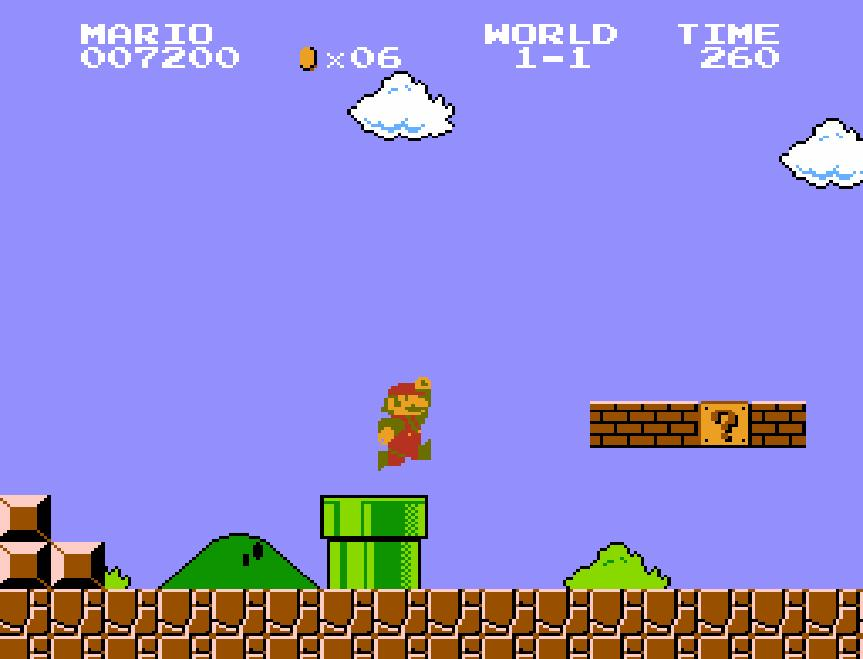big_mario: (376, 375, 434, 473)
